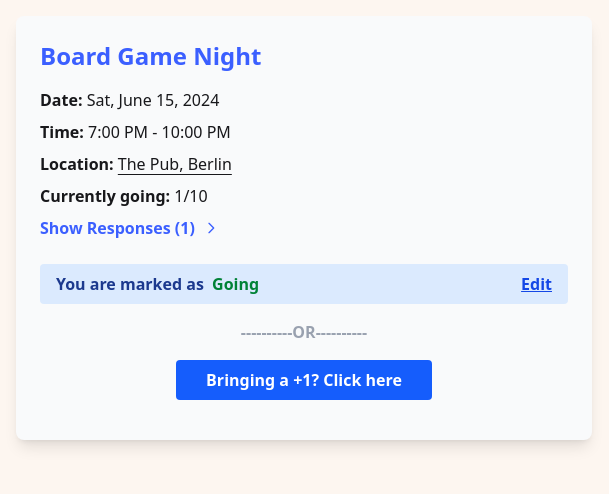
EventDetailPage — +1 button › clicking the "+1?" button shows the RSVP form
Click the button "Bringing a +1? Click here": {"x": 304, "y": 380} left=176, top=360, right=432, bottom=400
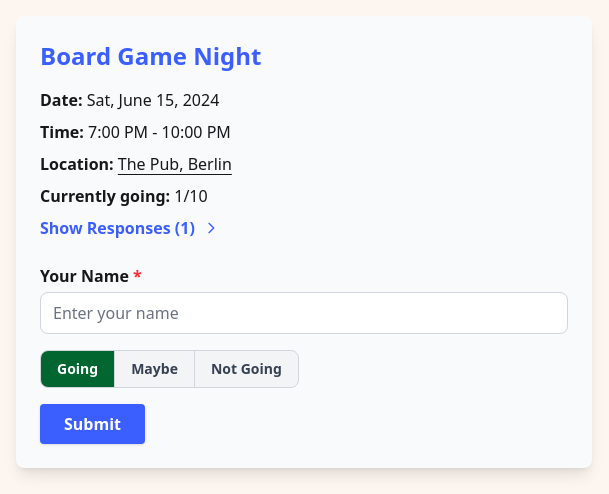
Now the button "Submit" is shown, box left=40, top=404, right=145, bottom=444
